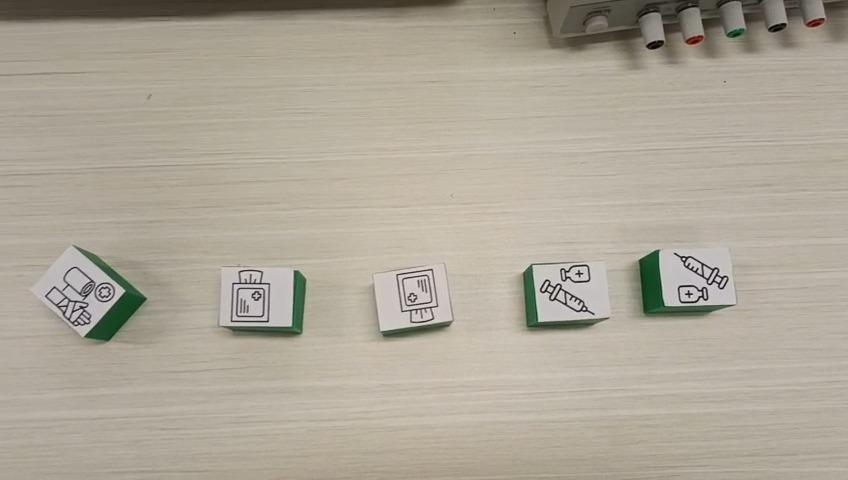Bandages: (26, 244, 147, 342)
Gauze: (372, 262, 455, 337), (219, 265, 306, 334)
antiseptic cream: (637, 244, 737, 314), (521, 259, 612, 328)
